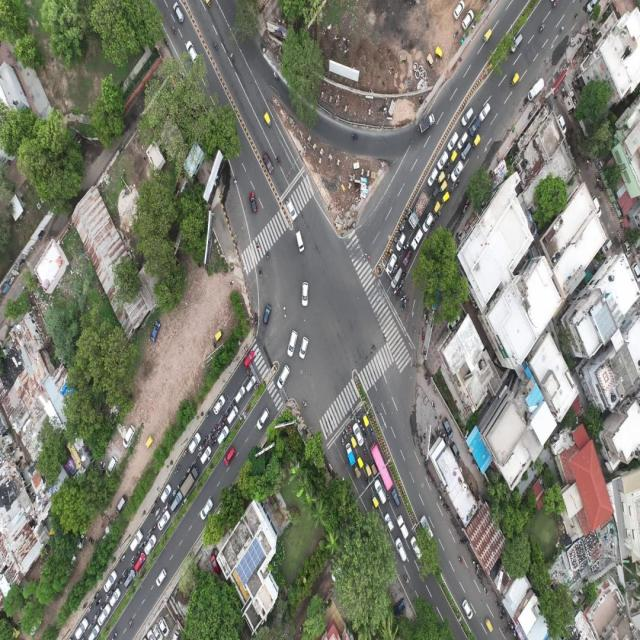3W: (484, 616, 493, 634), (483, 28, 492, 44), (432, 200, 441, 216), (264, 111, 272, 128), (510, 73, 519, 88), (434, 46, 443, 60), (441, 191, 450, 205), (450, 150, 457, 166), (350, 435, 358, 449), (426, 52, 433, 67), (432, 186, 439, 201), (215, 329, 224, 340), (146, 436, 154, 448), (372, 492, 378, 508), (473, 135, 480, 148), (438, 171, 445, 183), (363, 414, 369, 426)
Bus: (370, 439, 393, 491)
Cars: (171, 1, 187, 24), (277, 363, 290, 391), (74, 616, 88, 640), (103, 570, 118, 592), (130, 529, 144, 552), (200, 497, 213, 521), (98, 602, 111, 626), (256, 409, 270, 431), (122, 426, 136, 448), (451, 161, 464, 184), (287, 328, 297, 357), (395, 536, 406, 562), (390, 266, 402, 289), (213, 395, 226, 416), (437, 150, 449, 172), (442, 416, 453, 440), (188, 432, 200, 454), (223, 446, 235, 468), (106, 454, 117, 477), (186, 41, 198, 62), (218, 425, 230, 446), (133, 553, 147, 571), (298, 334, 308, 359), (460, 107, 473, 126), (263, 153, 274, 175), (286, 199, 297, 221), (462, 10, 474, 30), (510, 34, 522, 54), (460, 141, 472, 161), (170, 492, 182, 512), (158, 511, 170, 531), (124, 568, 136, 588), (592, 195, 602, 218), (470, 116, 482, 135), (243, 348, 255, 367), (144, 535, 156, 554), (393, 598, 406, 615), (295, 230, 305, 252), (110, 586, 121, 606), (462, 600, 473, 620), (452, 1, 464, 19), (200, 446, 212, 464), (160, 484, 172, 502), (246, 374, 256, 395), (447, 131, 458, 150), (557, 114, 568, 133), (235, 385, 246, 404), (115, 495, 127, 512), (450, 439, 460, 459), (391, 488, 401, 508), (248, 192, 257, 214), (427, 168, 438, 186), (479, 105, 492, 120), (88, 624, 100, 640), (156, 567, 166, 586), (263, 303, 272, 324), (384, 513, 393, 532), (585, 0, 598, 13), (402, 250, 412, 266), (397, 233, 406, 250), (302, 282, 308, 306)
LCV: (410, 227, 424, 250), (396, 513, 408, 539), (419, 114, 434, 132), (228, 406, 238, 424)
M2W: (420, 515, 433, 540), (170, 22, 177, 34), (272, 71, 280, 81), (457, 555, 464, 566), (230, 52, 236, 64), (448, 184, 455, 194), (120, 554, 126, 565), (233, 175, 238, 188), (351, 132, 359, 140), (86, 604, 94, 612), (455, 180, 461, 190), (175, 464, 181, 474), (364, 473, 369, 485), (370, 426, 375, 437), (212, 40, 218, 49), (392, 238, 398, 247), (111, 631, 117, 640), (94, 591, 100, 600), (211, 340, 217, 349), (276, 157, 281, 167), (128, 618, 133, 628), (152, 522, 157, 532), (386, 492, 391, 502), (362, 426, 367, 436), (150, 508, 156, 516), (340, 435, 344, 447), (539, 23, 544, 32), (397, 254, 402, 263), (222, 416, 227, 425), (405, 574, 409, 585), (363, 446, 367, 457), (402, 215, 408, 222), (212, 424, 218, 431), (154, 508, 160, 515), (258, 266, 262, 276), (395, 291, 400, 299), (432, 400, 436, 410), (303, 400, 307, 410), (194, 454, 198, 464), (363, 437, 368, 445), (228, 281, 234, 287), (559, 26, 565, 32), (387, 249, 393, 255), (402, 271, 408, 277), (155, 496, 159, 505), (183, 448, 187, 457), (212, 439, 218, 445), (358, 419, 362, 428), (401, 223, 406, 230), (347, 425, 352, 432), (454, 30, 458, 38), (400, 287, 404, 295), (356, 410, 360, 418), (256, 240, 259, 250), (553, 1, 558, 7), (406, 240, 409, 250), (401, 305, 406, 311), (403, 298, 408, 304), (203, 436, 208, 442), (206, 411, 211, 417), (225, 410, 229, 417), (246, 367, 250, 374), (266, 251, 269, 260), (351, 413, 354, 422), (208, 432, 214, 436)
MAV: (408, 190, 431, 230), (354, 463, 361, 479)
Truck: (181, 464, 201, 496), (527, 79, 544, 99)
